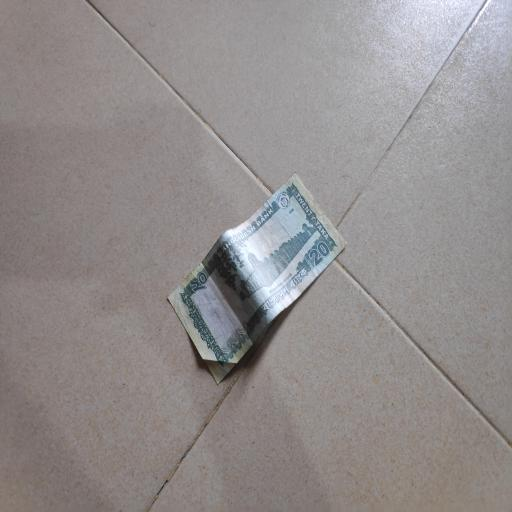20taka: (167, 174, 347, 382)
